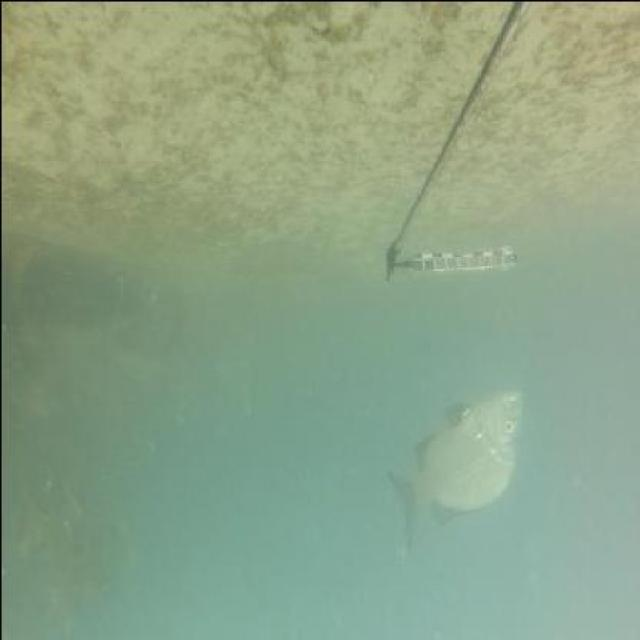acanthopagrus_palmaris: (384, 381, 524, 559)
